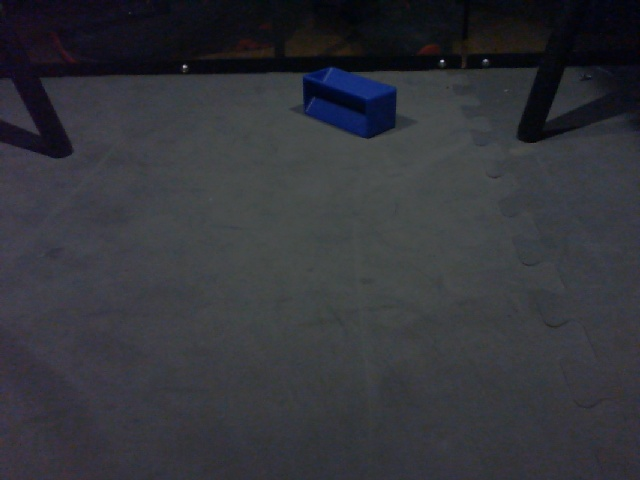BlueSample: (299, 66, 399, 138)
